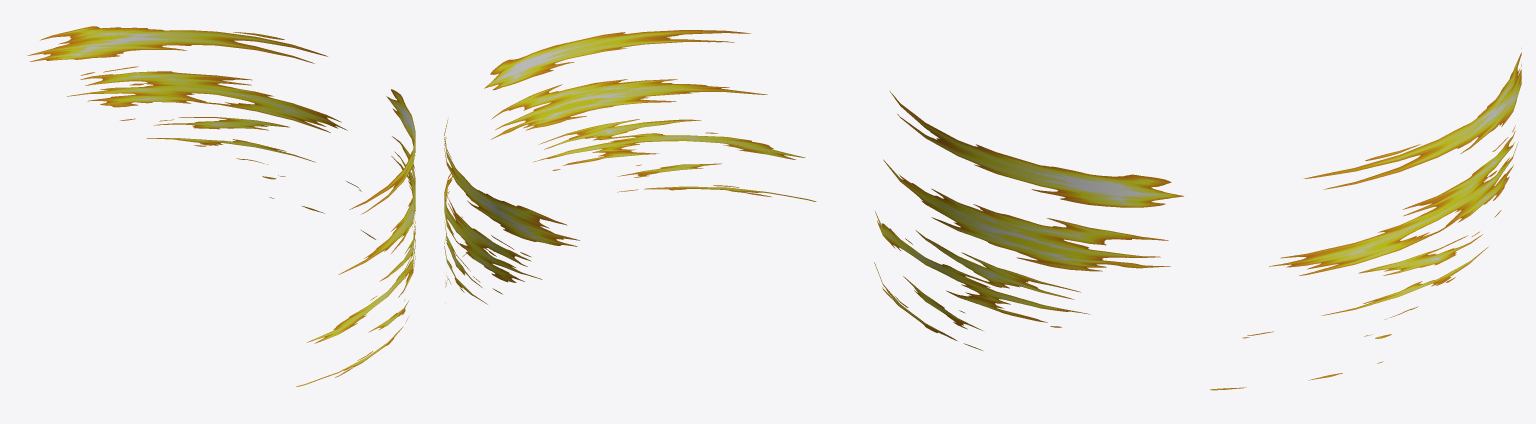
The model's file is banyuanhu_2.FBX.
3 renders of one model, left to right at view 1: azimuth 30°, elevation 25°; view 2: azimuth 150°, elevation 25°; view 3: azimuth 270°, elevation 25°, orthographic. The views are drawn at different scales.
Visible parts, largest first — view 1: banyuanhu_2; view 2: banyuanhu_2; view 3: banyuanhu_2.
Boxes of the visible parts, left/top/right/bottom form: banyuanhu_2: left=27, top=26, right=415, bottom=386; banyuanhu_2: left=444, top=30, right=816, bottom=304; banyuanhu_2: left=874, top=48, right=1521, bottom=390.
Size of the model in its own units: 66.08 by 50 by 120.
